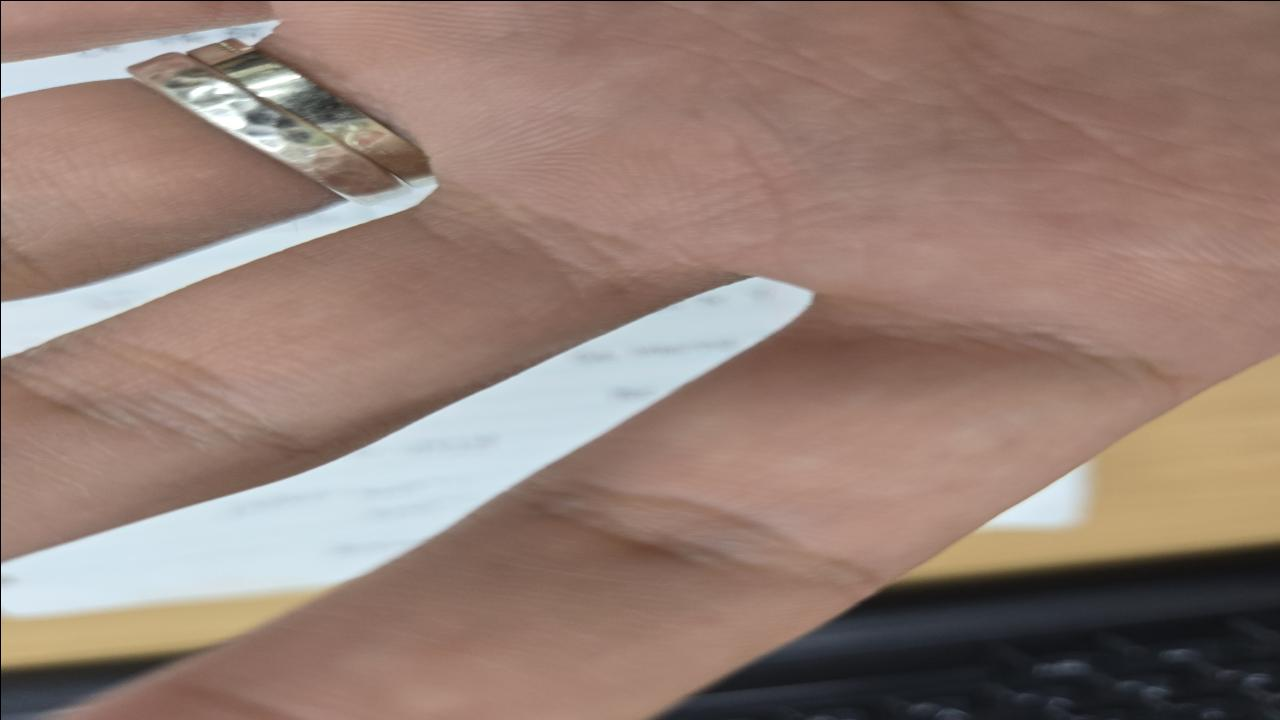ring: (124, 34, 442, 202)
